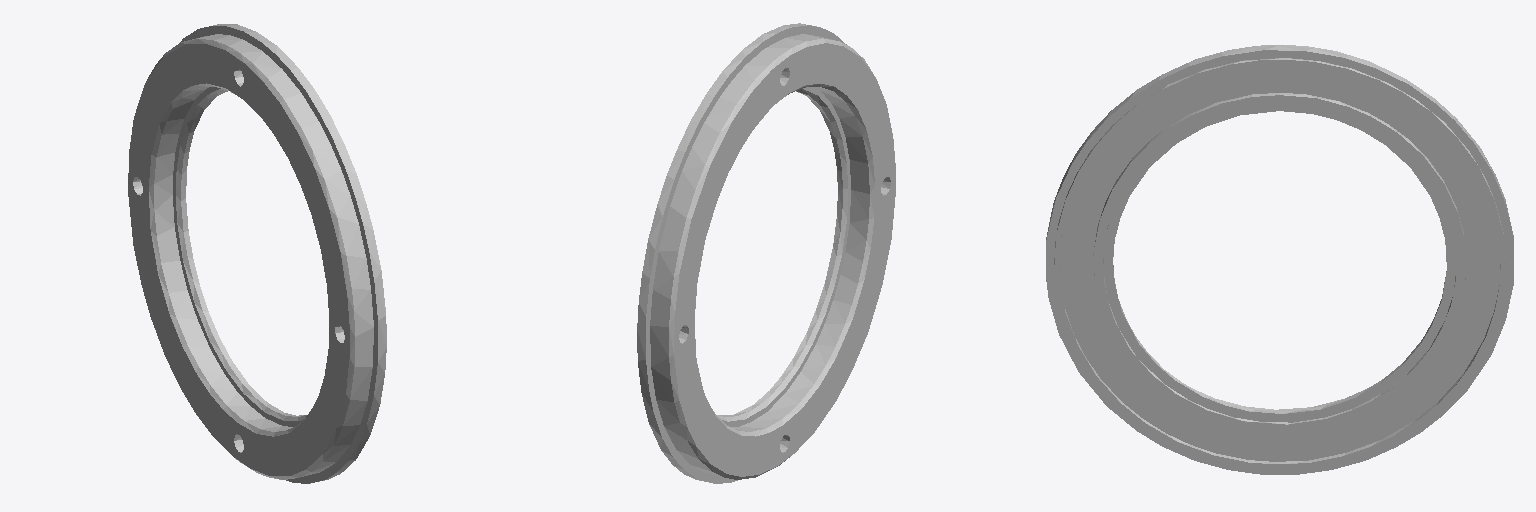
The model's file is unloading ring.obj.
3 renders of one model, left to right at view 1: azimuth 30°, elevation 25°; view 2: azimuth 150°, elevation 25°; view 3: azimuth 270°, elevation 25°, orthographic.
Parts seen in each view (by area): view 1: imagetostl_mesh0; view 2: imagetostl_mesh0; view 3: imagetostl_mesh0.
Part boxes in pixels (x1,y1,x2,y2): imagetostl_mesh0: (128, 24, 386, 483); imagetostl_mesh0: (637, 23, 895, 483); imagetostl_mesh0: (1046, 45, 1513, 474).
Bounding box in the file's own units: 20 × 239 × 239.